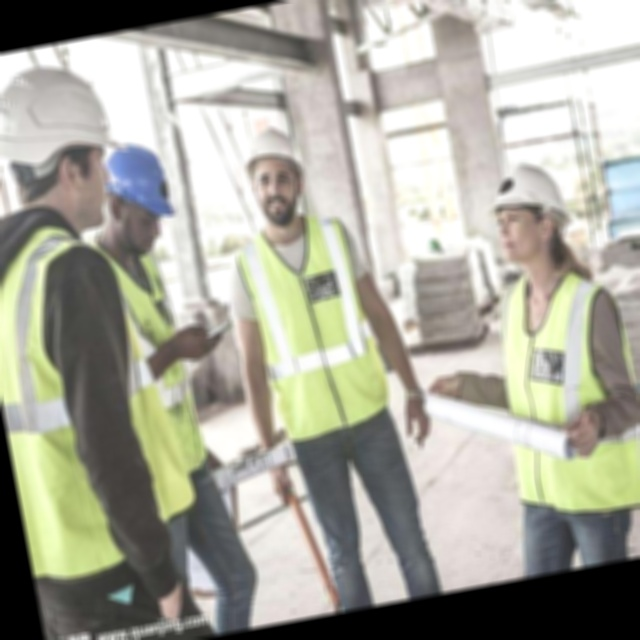Con_Casco: (0, 59, 118, 232), (487, 157, 566, 261)
Con_Chaleco: (491, 261, 640, 524), (236, 215, 393, 446)
